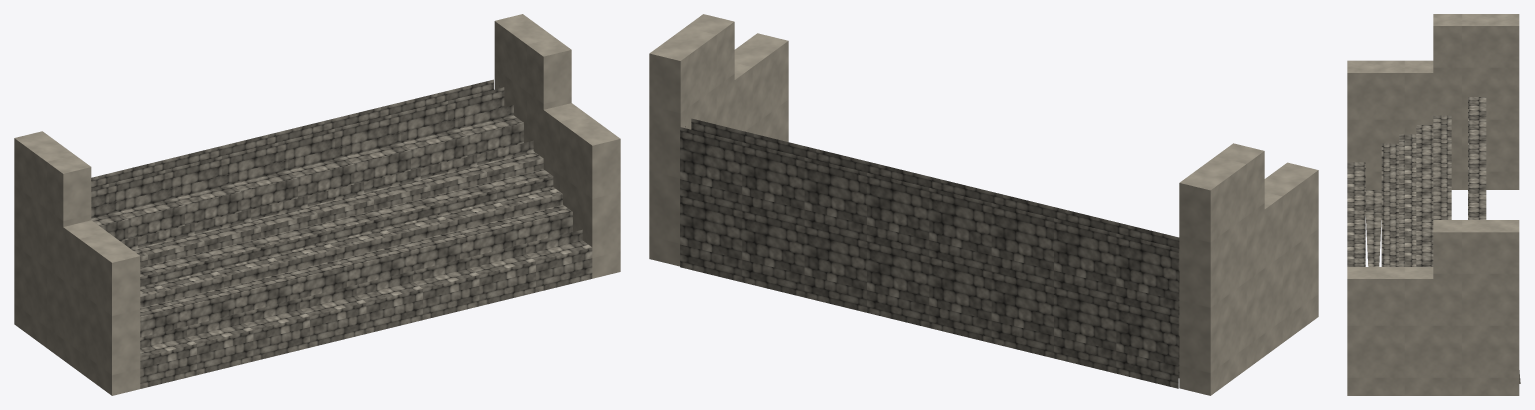
Rendered from Stairs_Monumental_1_LOD2.gltf.
3 renders of one model, left to right at view 1: azimuth 30°, elevation 25°; view 2: azimuth 150°, elevation 25°; view 3: azimuth 270°, elevation 25°, orthographic. The views are drawn at different scales.
Parts seen in each view (by area): view 1: Stairs_Monumental_1_LOD2; view 2: Stairs_Monumental_1_LOD2; view 3: Stairs_Monumental_1_LOD2.
Boxes of the visible parts, x1,y1,x2,y2 form: Stairs_Monumental_1_LOD2: [14, 14, 620, 395]; Stairs_Monumental_1_LOD2: [649, 14, 1318, 395]; Stairs_Monumental_1_LOD2: [1347, 14, 1520, 395].
Bounding box in the file's own units: 9 × 3.15 × 3.02.
2 materials, 2 textured.
